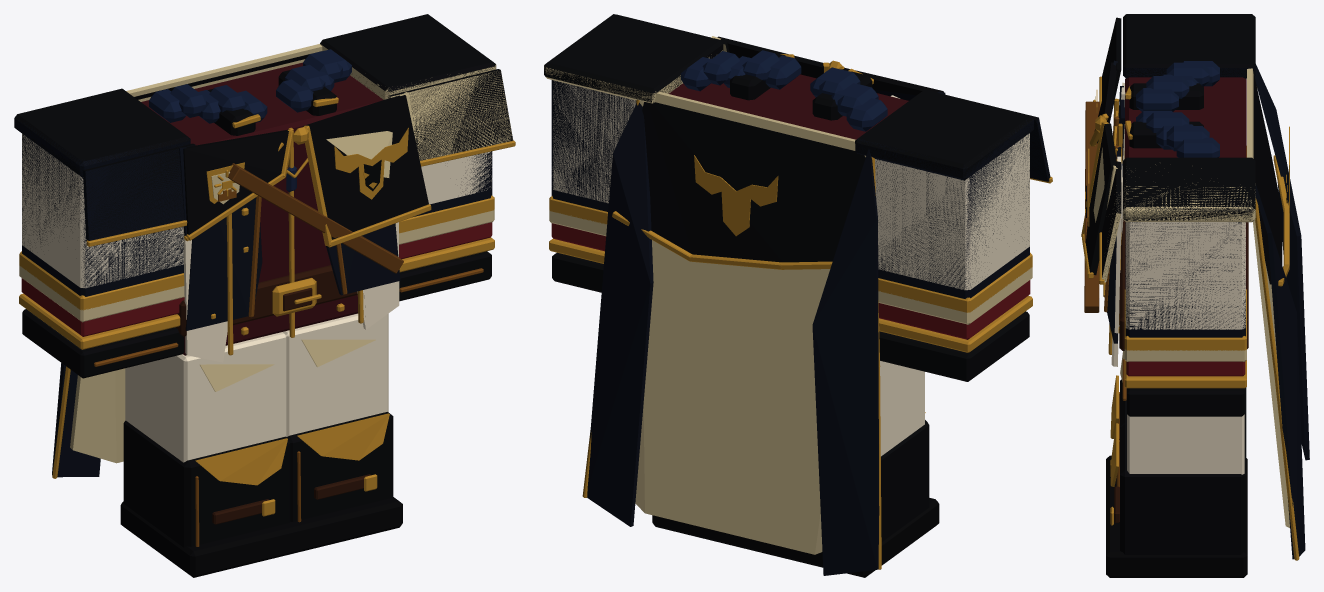
Rendered from clover-squad-outfits-v3.fbx.
The picture shows the model from 3 angles, left to right: view 1: azimuth 30°, elevation 25°; view 2: azimuth 150°, elevation 25°; view 3: azimuth 270°, elevation 25°; orthographic projection. The views are drawn at different scales.
Parts seen in each view (by area): view 1: outfit-forest-initiate-female-v1__Torso, outfit-forest-initiate-female-v1__Left_Leg, outfit-ink-knight-female-v1__Left_Arm, outfit-forest-initiate-female-v1__Left_Arm, outfit-forest-initiate-female-v1__Right_Leg, outfit-ink-knight-female-v1__Torso, outfit-ink-knight-female-v1__Right_Arm, outfit-forest-initiate-female-v1__Right_Arm, outfit-ink-knight-v1__Torso, outfit-forest-initiate-v1__Torso; view 2: outfit-forest-initiate-female-v1__Torso, outfit-ink-knight-female-v1__Torso, outfit-forest-initiate-female-v1__Left_Arm, outfit-ink-knight-female-v1__Left_Arm, outfit-ink-knight-female-v1__Right_Arm, outfit-forest-initiate-female-v1__Right_Arm, outfit-forest-initiate-female-v1__Left_Leg, outfit-forest-initiate-female-v1__Right_Leg; view 3: outfit-forest-initiate-female-v1__Torso, outfit-forest-initiate-female-v1__Right_Leg, outfit-forest-initiate-female-v1__Right_Arm, outfit-ink-knight-female-v1__Right_Arm, outfit-ink-knight-female-v1__Torso, outfit-ink-knight-female-v1__Left_Arm, outfit-forest-initiate-v1__Torso, outfit-ink-knight-v1__Torso, outfit-forest-initiate-female-v1__Left_Leg, outfit-forest-initiate-female-v1__Left_Arm.
Part boxes in pixels (bbox=[...]): outfit-forest-initiate-female-v1__Torso: bbox=[52, 44, 414, 478]; outfit-forest-initiate-female-v1__Left_Leg: bbox=[120, 332, 299, 577]; outfit-ink-knight-female-v1__Left_Arm: bbox=[14, 88, 195, 378]; outfit-forest-initiate-female-v1__Left_Arm: bbox=[14, 116, 195, 349]; outfit-forest-initiate-female-v1__Right_Leg: bbox=[282, 313, 402, 552]; outfit-ink-knight-female-v1__Torso: bbox=[134, 51, 431, 322]; outfit-ink-knight-female-v1__Right_Arm: bbox=[320, 14, 514, 301]; outfit-forest-initiate-female-v1__Right_Arm: bbox=[320, 44, 515, 272]; outfit-ink-knight-v1__Torso: bbox=[176, 197, 400, 336]; outfit-forest-initiate-v1__Torso: bbox=[177, 104, 399, 362]; outfit-forest-initiate-female-v1__Torso: bbox=[582, 36, 945, 575]; outfit-ink-knight-female-v1__Torso: bbox=[612, 36, 943, 269]; outfit-forest-initiate-female-v1__Left_Arm: bbox=[855, 117, 1052, 352]; outfit-ink-knight-female-v1__Left_Arm: bbox=[855, 90, 1052, 381]; outfit-ink-knight-female-v1__Right_Arm: bbox=[544, 14, 729, 292]; outfit-forest-initiate-female-v1__Right_Arm: bbox=[544, 44, 726, 263]; outfit-forest-initiate-female-v1__Left_Leg: bbox=[757, 361, 939, 577]; outfit-forest-initiate-female-v1__Right_Leg: bbox=[652, 515, 758, 551]; outfit-forest-initiate-female-v1__Torso: bbox=[1084, 60, 1309, 560]; outfit-forest-initiate-female-v1__Right_Leg: bbox=[1106, 351, 1247, 577]; outfit-forest-initiate-female-v1__Right_Arm: bbox=[1099, 164, 1255, 388]; outfit-ink-knight-female-v1__Right_Arm: bbox=[1099, 157, 1255, 416]; outfit-ink-knight-female-v1__Torso: bbox=[1081, 62, 1289, 312]; outfit-ink-knight-female-v1__Left_Arm: bbox=[1099, 14, 1255, 110]; outfit-forest-initiate-v1__Torso: bbox=[1111, 77, 1248, 366]; outfit-ink-knight-v1__Torso: bbox=[1107, 87, 1248, 350]; outfit-forest-initiate-female-v1__Left_Leg: bbox=[1106, 375, 1247, 507]; outfit-forest-initiate-female-v1__Left_Arm: bbox=[1108, 66, 1255, 158].
Bounding box in the file's own units: 419 × 422 × 202.
Materials: 1 (1 with a texture image).
